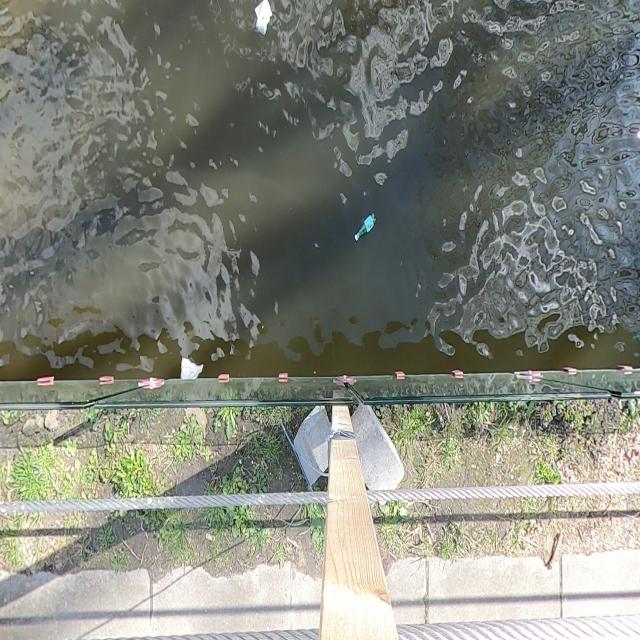Bouteille plastique: (352, 206, 381, 246)
Sac plastique: (253, 0, 276, 38)
